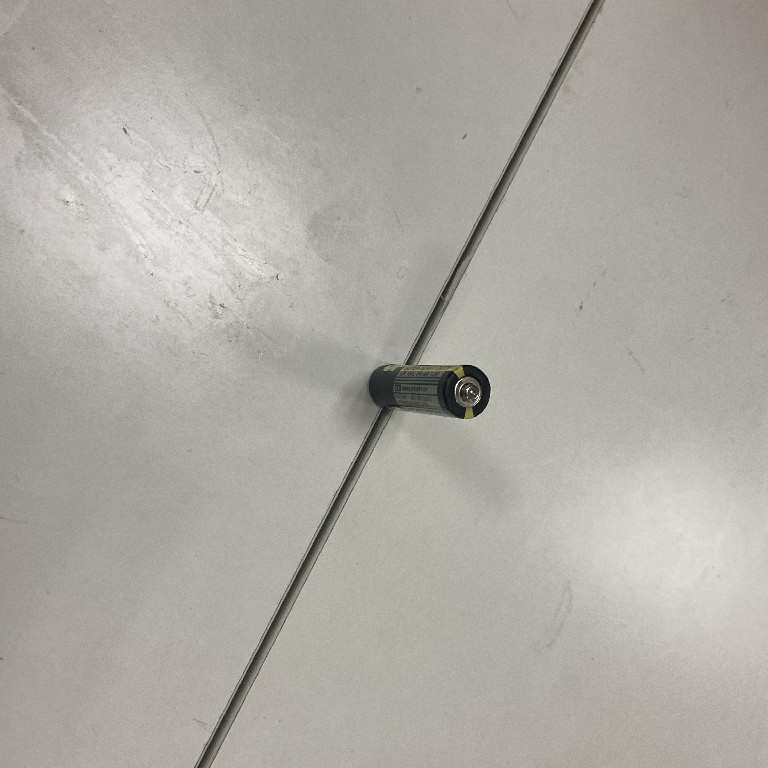charge: (365, 355, 494, 422)
